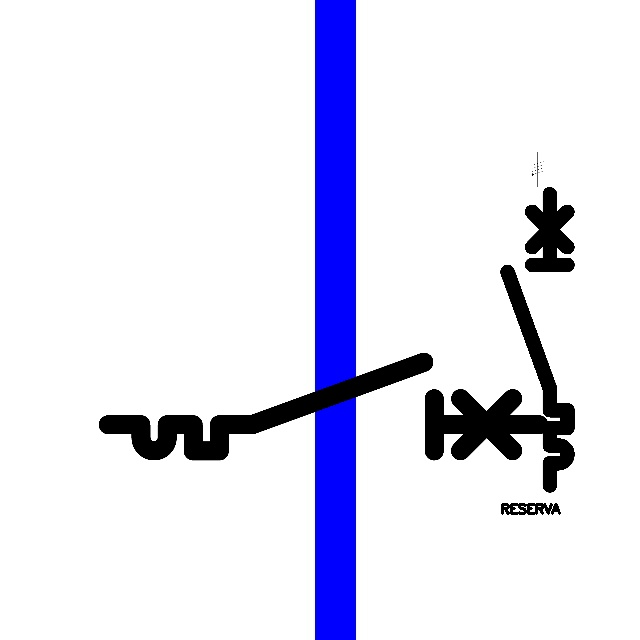interruptor_termomagnetico: (97, 351, 550, 462), (500, 186, 575, 493)
